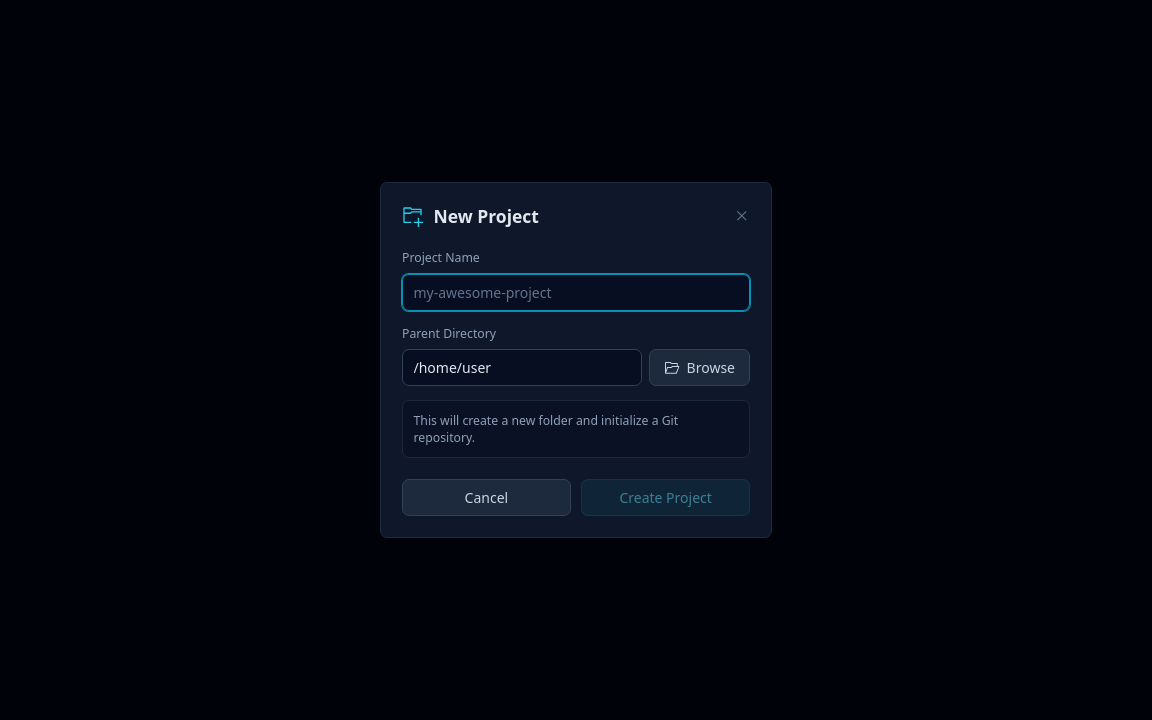
Test: NewProjectDialog › validates project name with invalid characters
The image size is (1152, 720).
Type "project<>name" into the field with placeholder "my-awesome-project" at (576, 292), box 402,274 -> 750,311
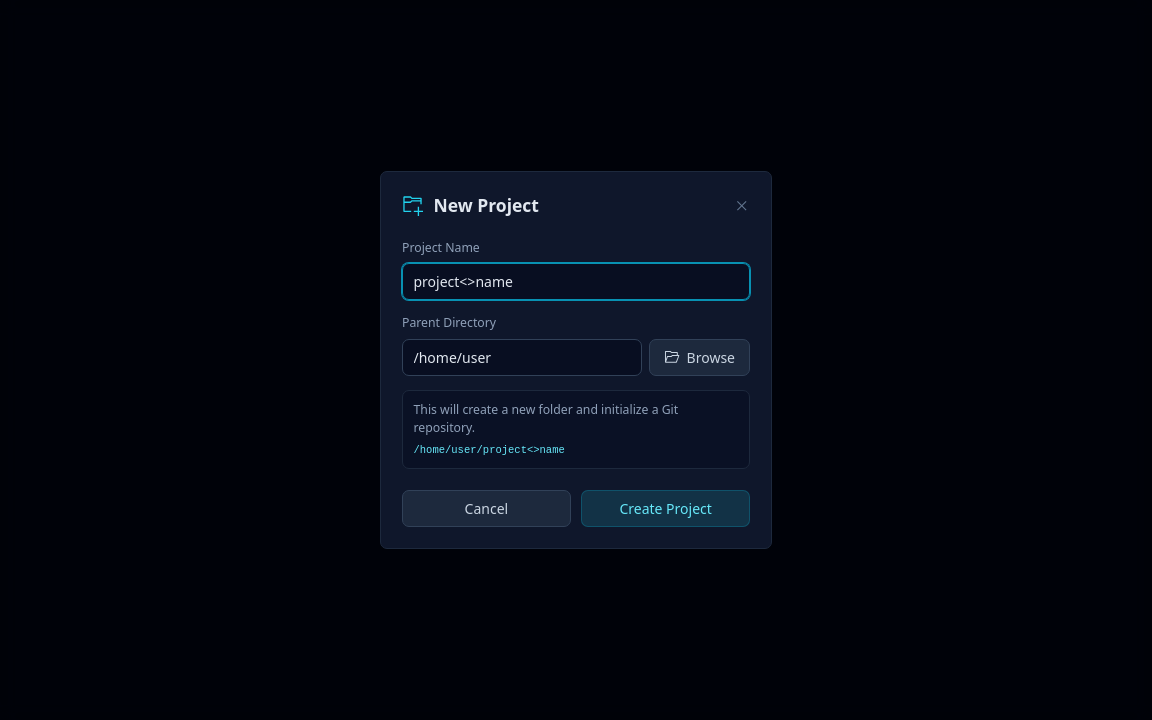
Click the button "Create Project" at (666, 508), box 581,490 -> 750,527
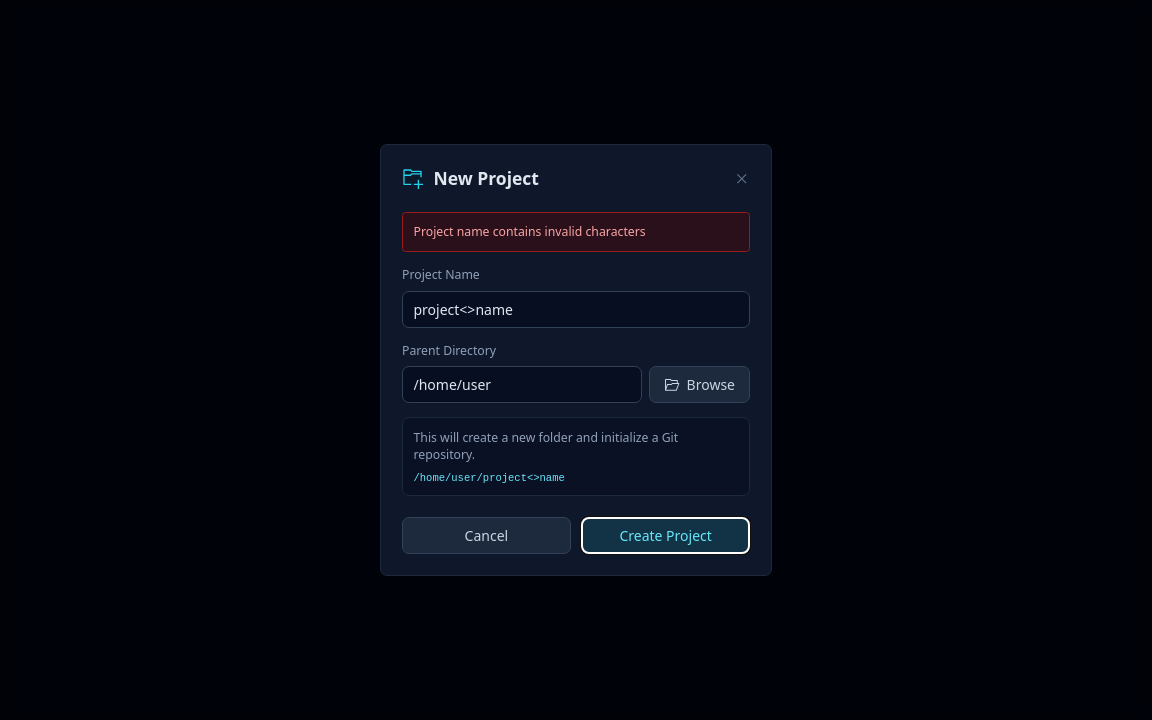
Result: the text "Project name contains invalid characters" is shown at 402,212 -> 750,252
